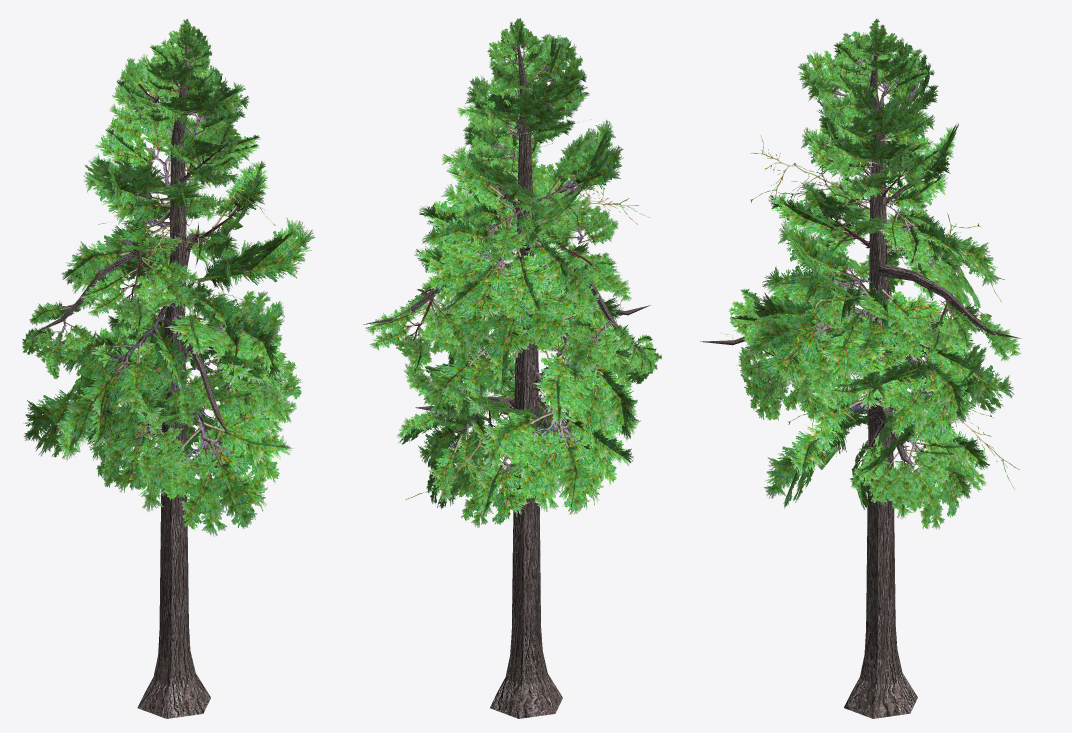
The model's file is shu2.glb.
3 views of the same model, side by side, from view 1: azimuth 30°, elevation 25°; view 2: azimuth 150°, elevation 25°; view 3: azimuth 270°, elevation 25° (orthographic).
Parts seen in each view (by area): view 1: Asset3DLoader.sceneRoot; view 2: Asset3DLoader.sceneRoot; view 3: Asset3DLoader.sceneRoot.
Boxes of the visible parts, <box> form: Asset3DLoader.sceneRoot: <box>22,19,315,718</box>; Asset3DLoader.sceneRoot: <box>363,18,661,718</box>; Asset3DLoader.sceneRoot: <box>700,18,1021,718</box>.
Bounding box in the file's own units: 1.3 × 3.05 × 1.43.
Materials: 2 (2 with a texture image).
